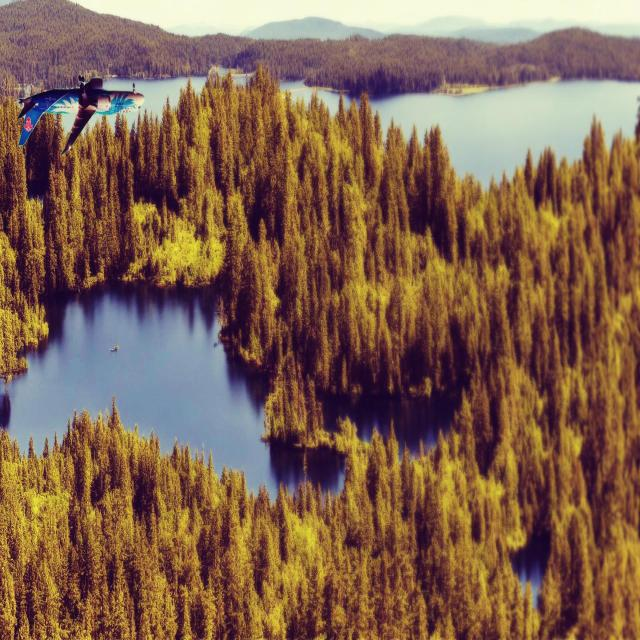airplane: (16, 73, 145, 156)
